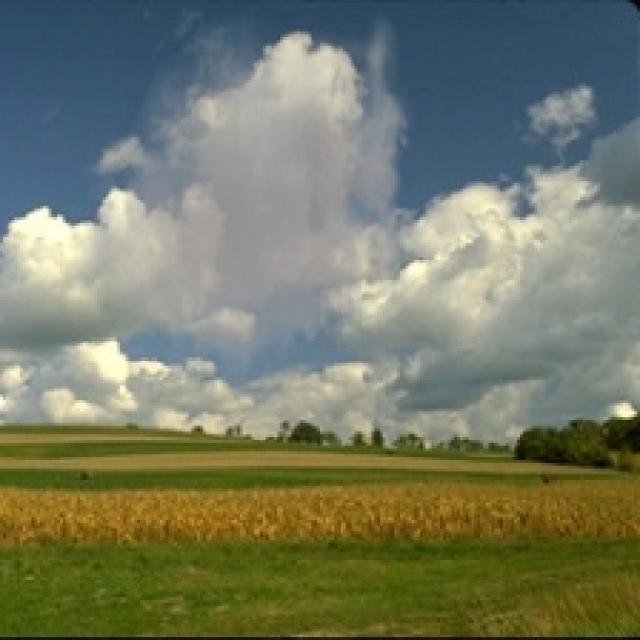smoke: (80, 3, 426, 386)
